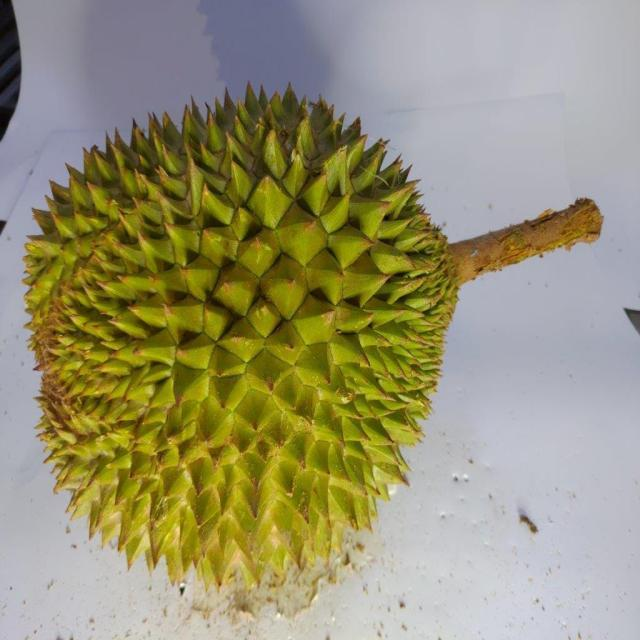immature: (19, 78, 460, 588)
